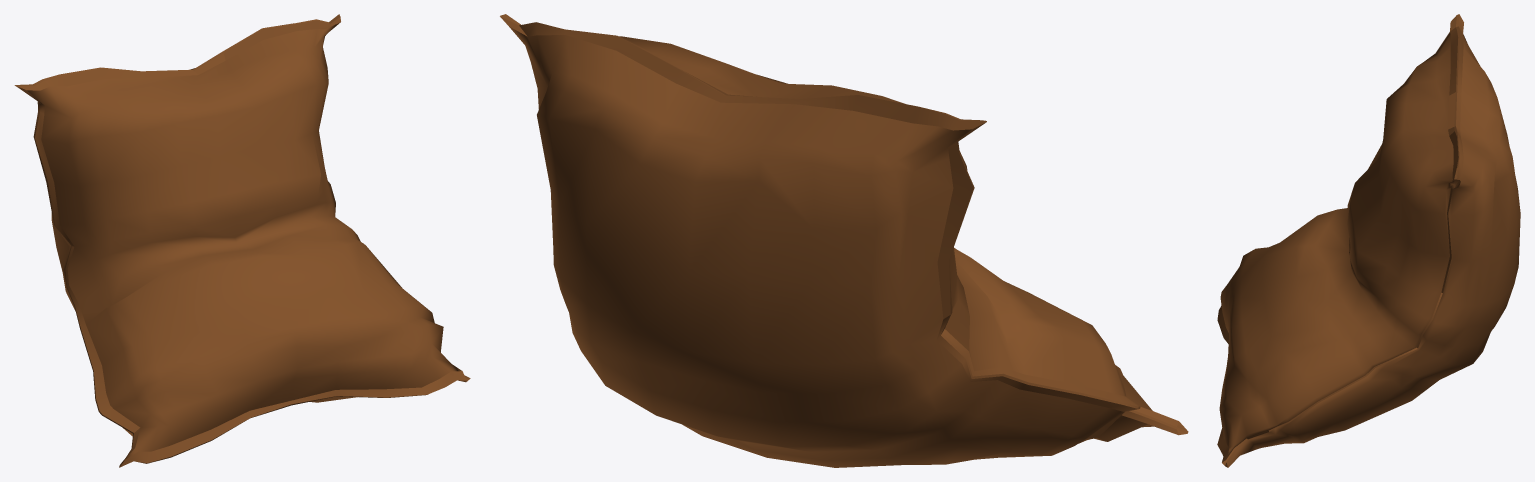
The model's file is feed.fbx.
The picture shows the model from 3 angles, left to right: view 1: azimuth 30°, elevation 25°; view 2: azimuth 150°, elevation 25°; view 3: azimuth 270°, elevation 25°; orthographic projection. The views are drawn at different scales.
Visible parts, largest first — view 1: sack002; view 2: sack002; view 3: sack002.
Part boxes in pixels (x1=…): sack002: x1=14, y1=14, x2=470, y2=467; sack002: x1=500, y1=14, x2=1188, y2=467; sack002: x1=1217, y1=14, x2=1520, y2=467.
Size of the model in its own units: 25.32 by 20.66 by 18.88.
